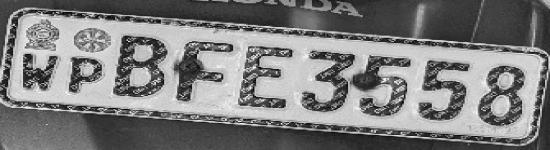3: (300, 48, 354, 116)
5: (413, 56, 474, 124), (354, 52, 415, 119)
8: (475, 61, 529, 130)
B: (111, 31, 170, 99)
E: (235, 42, 297, 112)
F: (171, 37, 234, 105)
P: (63, 56, 106, 98)
W: (18, 52, 62, 95)
